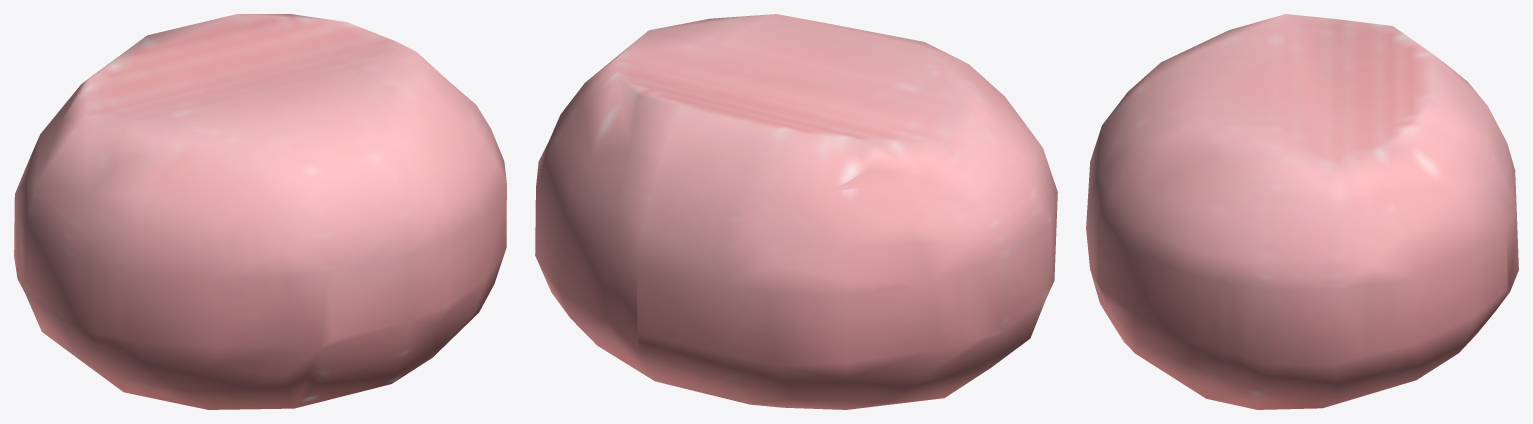
3 views of the same model, side by side, from view 1: azimuth 30°, elevation 25°; view 2: azimuth 150°, elevation 25°; view 3: azimuth 270°, elevation 25° (orthographic). The views are drawn at different scales.
Size of the model in its own units: 1.65 by 1 by 1.46.
Materials: 1 (1 with a texture image).
